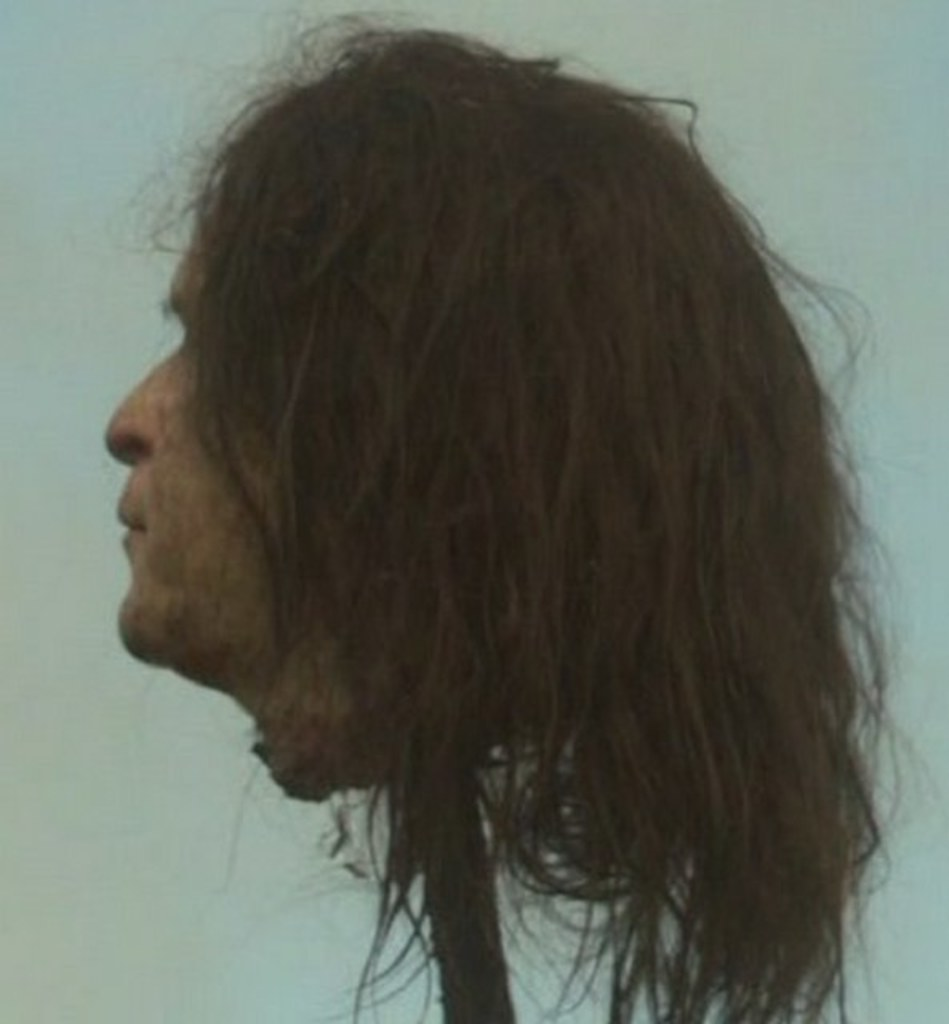face: (97, 172, 335, 690)
